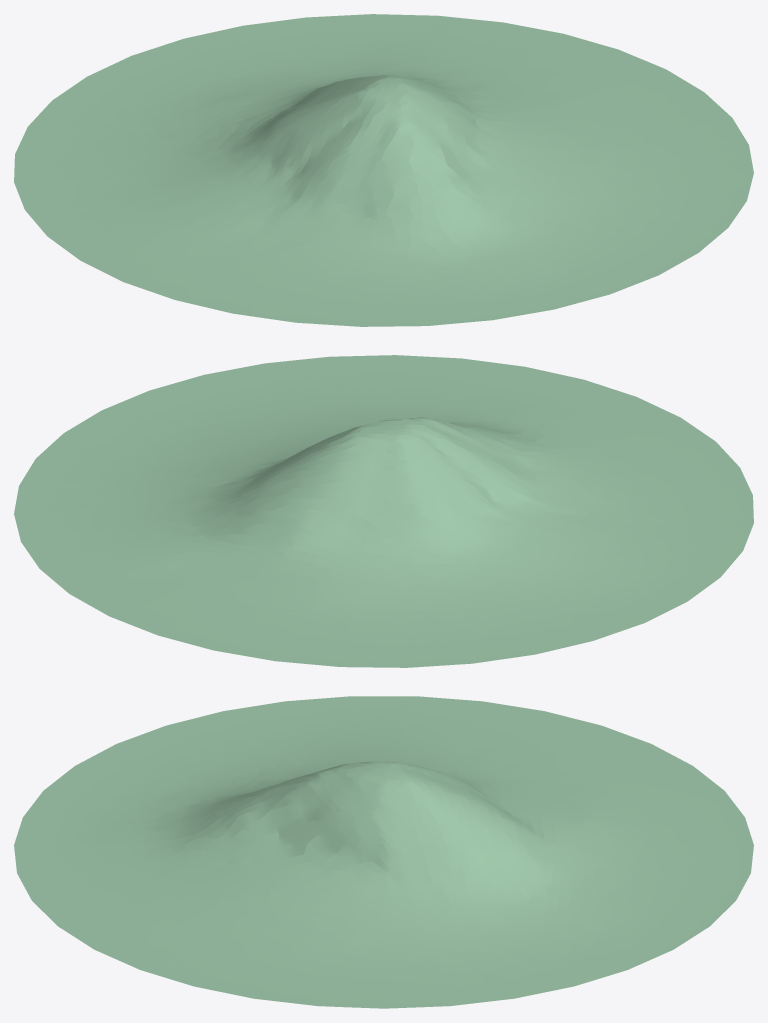
File: island_coral_mini_B.fbx
The picture shows the model from 3 angles, top to bottom: view 1: azimuth 30°, elevation 25°; view 2: azimuth 150°, elevation 25°; view 3: azimuth 270°, elevation 25°; orthographic projection.
Parts seen in each view (by area): view 1: island_coral_mini_B; view 2: island_coral_mini_B; view 3: island_coral_mini_B.
Part boxes in pixels (x1,y1,x2,y2): island_coral_mini_B: [14, 14, 753, 326]; island_coral_mini_B: [14, 355, 753, 667]; island_coral_mini_B: [14, 696, 753, 1008].
Size of the model in its own units: 4700 by 575 by 4705.
